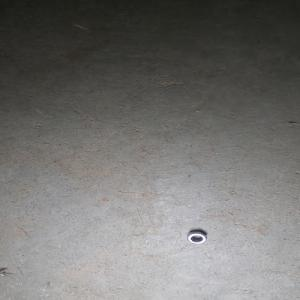Nut: (186, 229, 207, 243)
